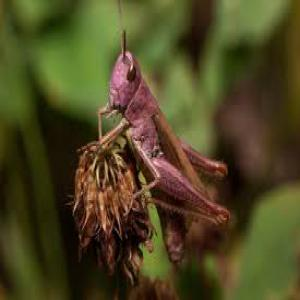locust: (96, 29, 234, 291)
